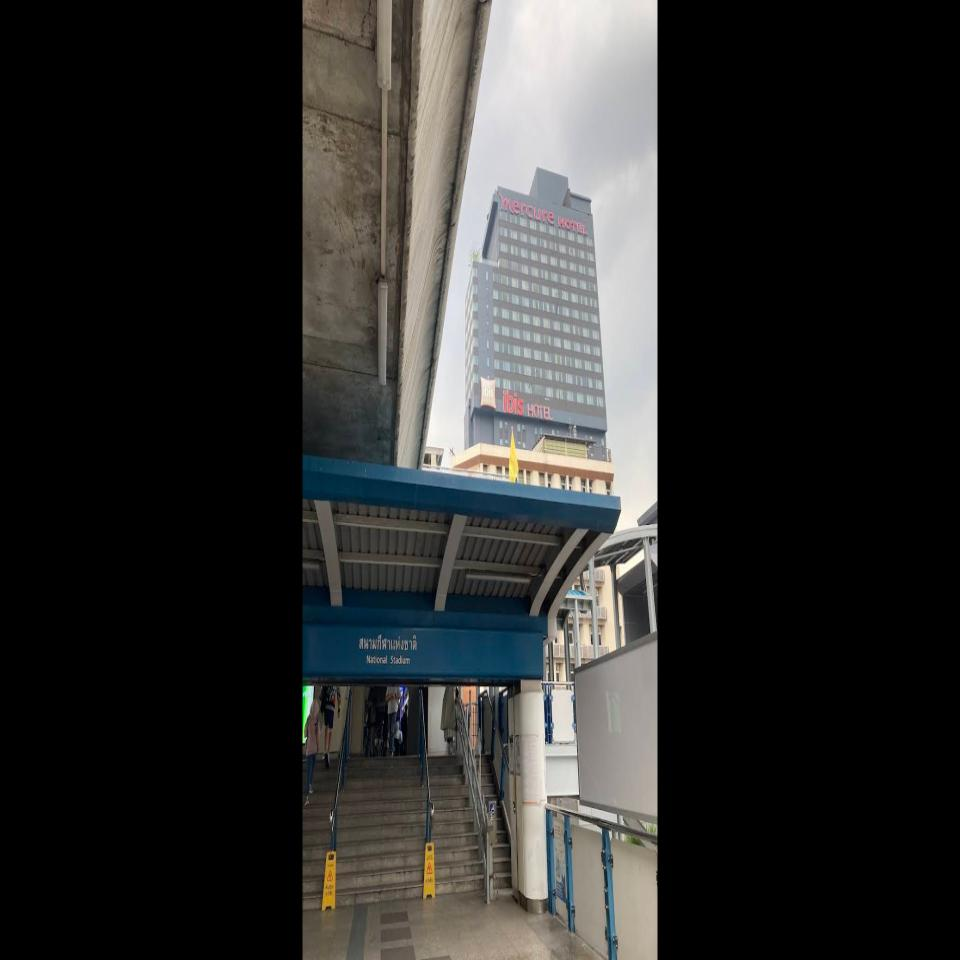signage: (359, 633, 417, 665)
